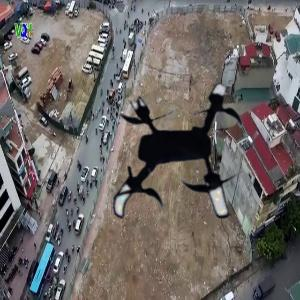drone: (95, 77, 268, 250)
